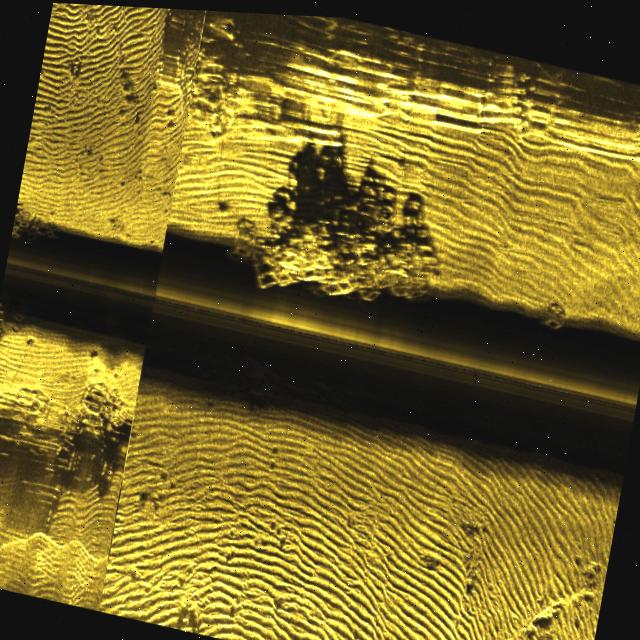artificial reef: (214, 171, 464, 330), (9, 206, 69, 256), (530, 288, 588, 333)
